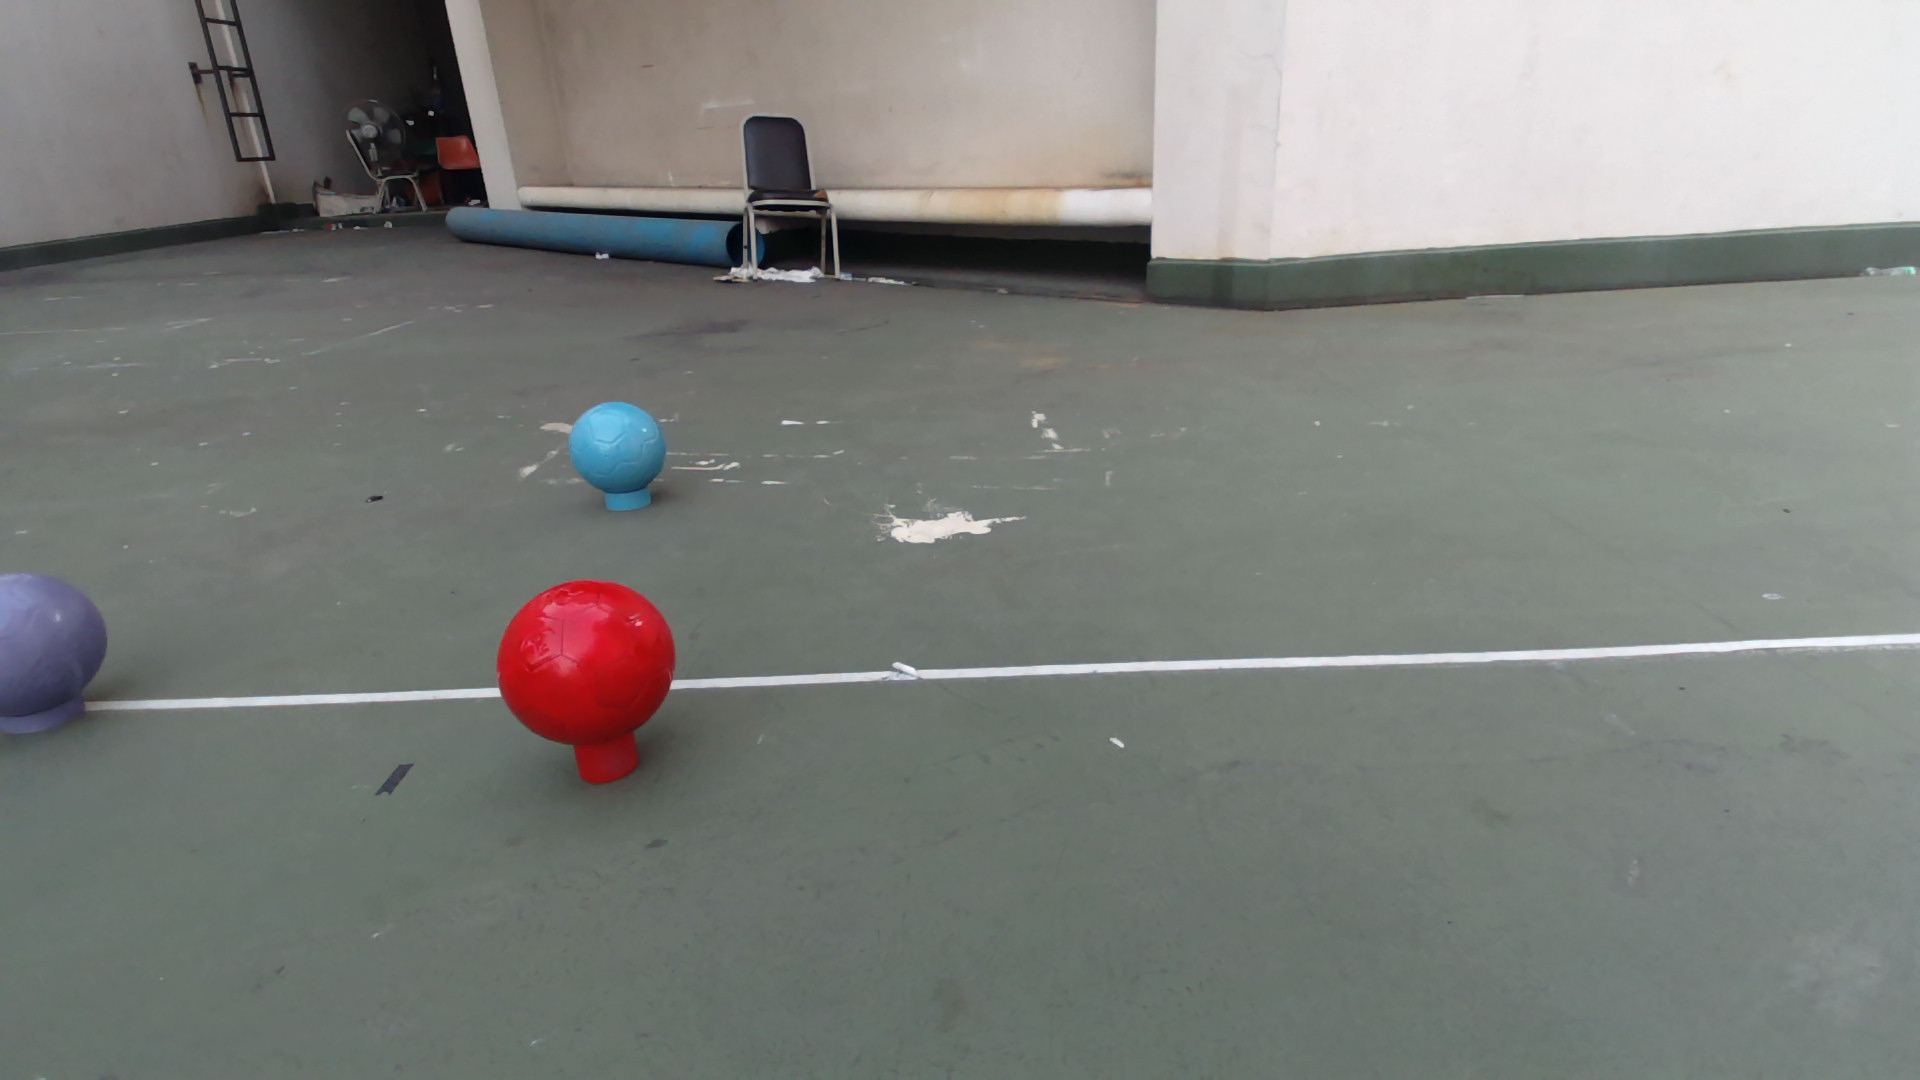Blue ball: (566, 400, 667, 496)
Purple ball: (1, 571, 109, 720)
Red ball: (495, 578, 676, 749)
